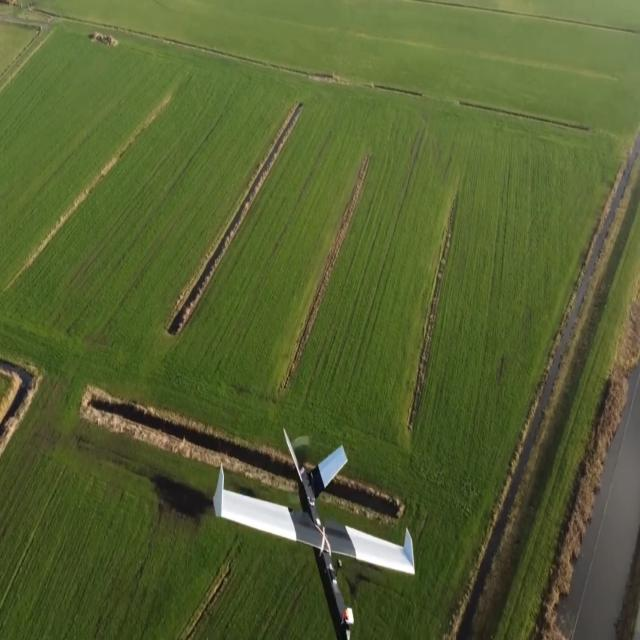iha: (211, 422, 416, 638)
